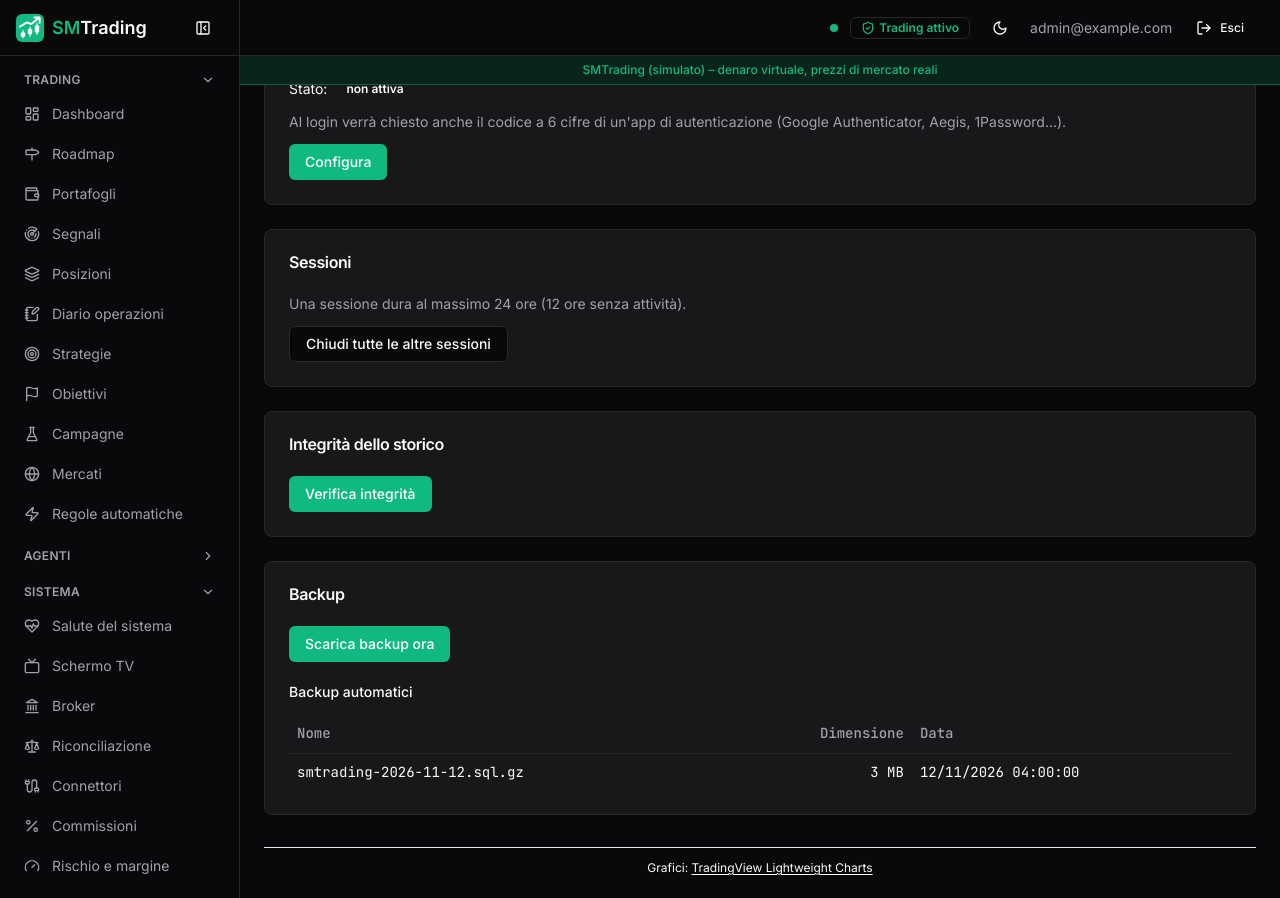
Test case: Settings › runs both integrity checks and shows the outcome
(page scrolled)
Click the button "Verifica integrità": [360, 494] box [289,476,432,512]
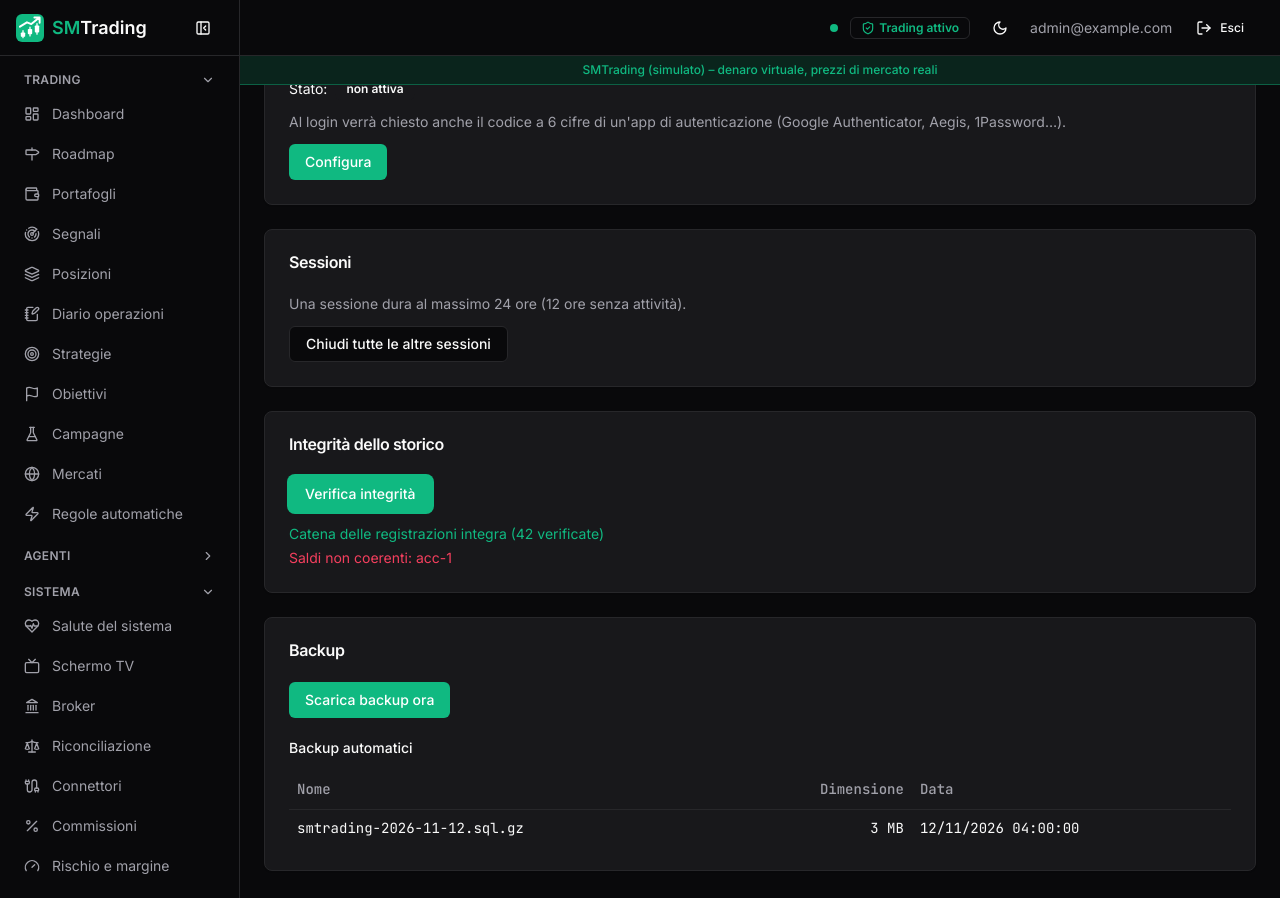
Now the list item "Catena delle registrazioni integra (42 verificate)" is shown, box [289,524,604,542]
Now the list item "Saldi non coerenti: acc-1" is shown, box [289,548,452,566]
